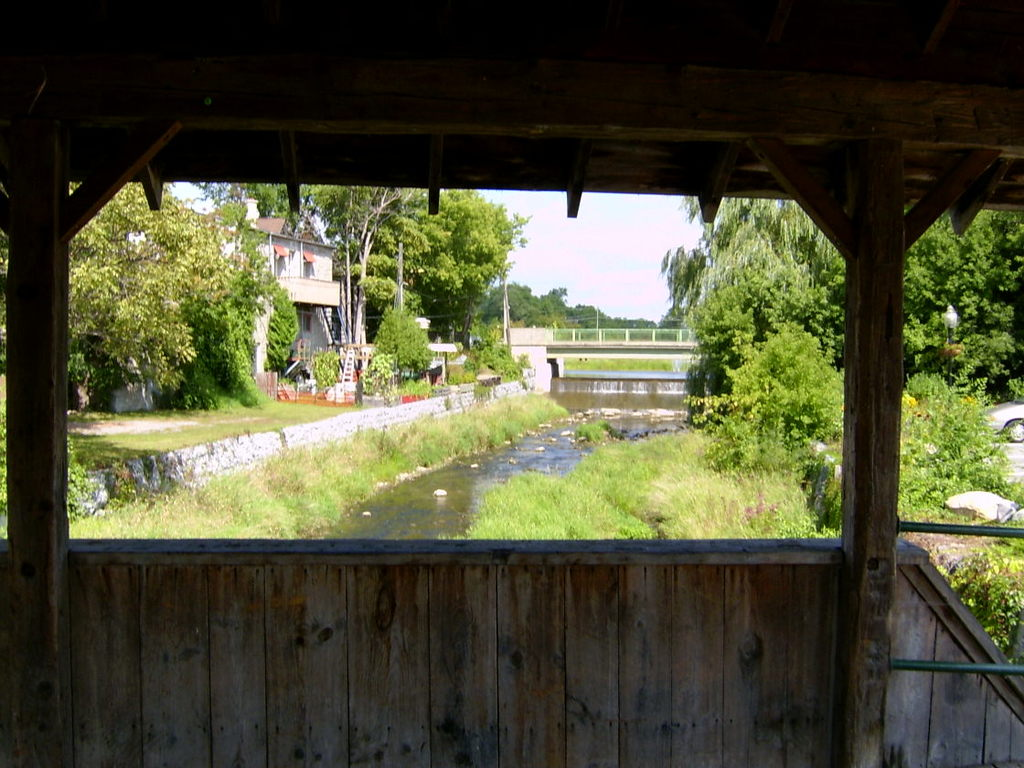Tree: (653, 190, 853, 528), (64, 181, 303, 408), (904, 214, 1023, 661), (306, 187, 531, 388), (533, 277, 676, 341)
